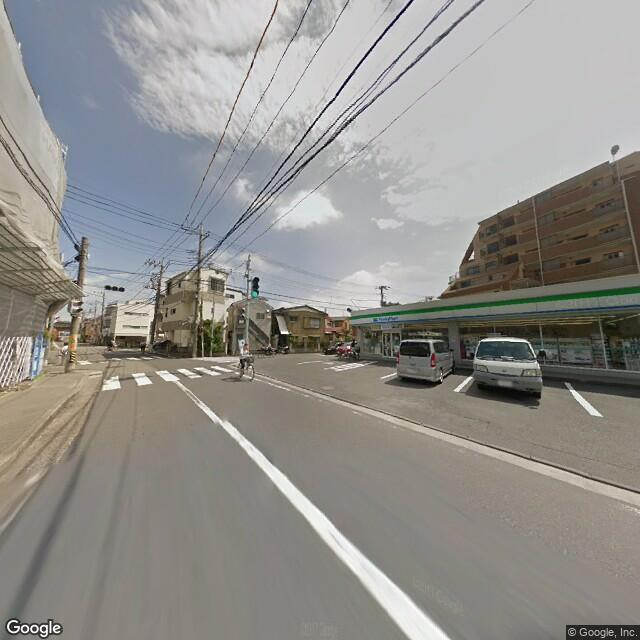family_mart: (349, 283, 639, 329)
